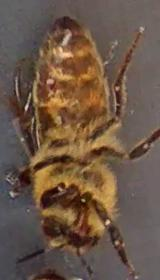varroa_mite: (36, 72, 60, 94)
